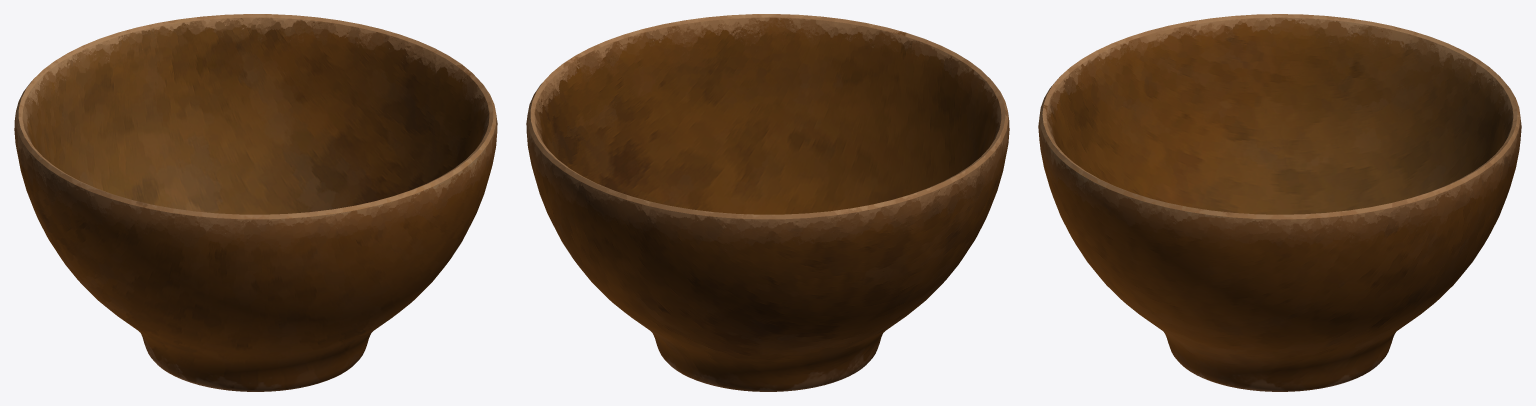
The model's file is bowl.glb.
3 renders of one model, left to right at view 1: azimuth 30°, elevation 25°; view 2: azimuth 150°, elevation 25°; view 3: azimuth 270°, elevation 25°, orthographic.
Visible parts, largest first — view 1: _high; view 2: _high; view 3: _high.
Boxes of the visible parts, box(x1,y1,x2,y2) form: _high: box(14, 14, 497, 391); _high: box(526, 14, 1009, 391); _high: box(1038, 14, 1521, 391).
Size of the model in its own units: 1.9 by 1.01 by 1.9.
Materials: 1 (1 with a texture image).
